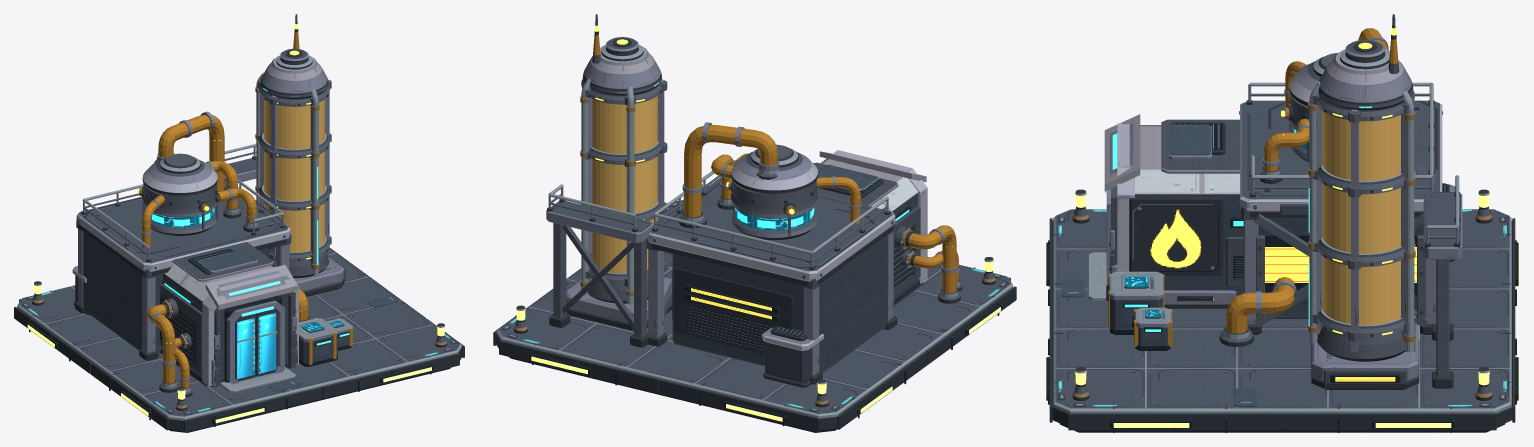
File: RF03_RefineriaIndustrial.fbx
3 views of the same model, side by side, from view 1: azimuth 30°, elevation 25°; view 2: azimuth 150°, elevation 25°; view 3: azimuth 270°, elevation 25° (orthographic). The views are drawn at different scales.
Visible parts, largest first — view 1: Estructura_3, CristalYRefineria_3; view 2: Estructura_3, CristalYRefineria_3; view 3: Estructura_3, CristalYRefineria_3.
Part boxes in pixels (bbox=[...]): Estructura_3: bbox=[14, 14, 464, 432]; CristalYRefineria_3: bbox=[264, 99, 324, 252]; Estructura_3: bbox=[493, 14, 1016, 432]; CristalYRefineria_3: bbox=[592, 96, 657, 273]; Estructura_3: bbox=[1045, 14, 1519, 432]; CristalYRefineria_3: bbox=[1322, 111, 1400, 325].
Bounding box in the file's own units: 6.46 × 5.62 × 6.24.
